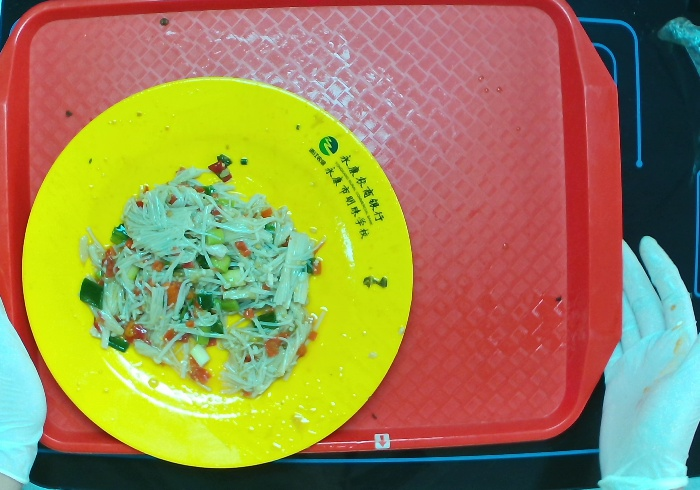YKMZ-Huang_Se_Mian_Pan: (15, 79, 427, 477)
